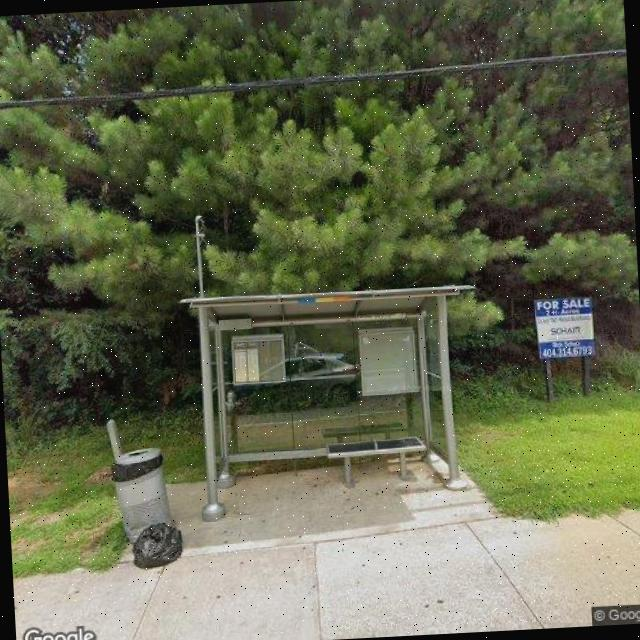seating: (326, 436, 428, 489)
shelter: (177, 279, 489, 525)
trash_can: (111, 448, 176, 543)
